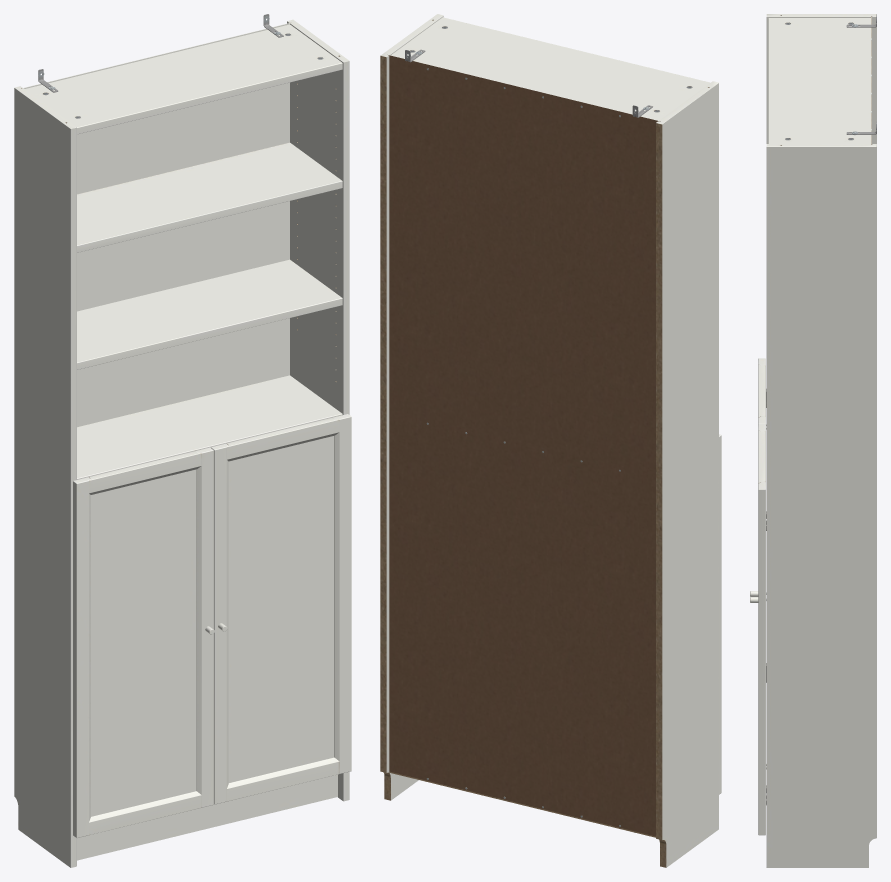
The model's file is billy_oxberg_rega_z_drzwiami_29281066.glb.
3 renders of one model, left to right at view 1: azimuth 30°, elevation 25°; view 2: azimuth 150°, elevation 25°; view 3: azimuth 270°, elevation 25°, orthographic. The views are drawn at different scales.
Parts seen in each view (by area): view 1: billy_oxberg_rega_z_drzwiami_29281066; view 2: billy_oxberg_rega_z_drzwiami_29281066; view 3: billy_oxberg_rega_z_drzwiami_29281066.
Boxes of the visible parts, x1,y1,x2,y2 form: billy_oxberg_rega_z_drzwiami_29281066: (14, 14, 351, 867); billy_oxberg_rega_z_drzwiami_29281066: (380, 14, 721, 867); billy_oxberg_rega_z_drzwiami_29281066: (750, 14, 876, 867).
Bounding box in the file's own units: 0.798 × 2.05 × 0.3217.
Materials: 1 (1 with a texture image).
